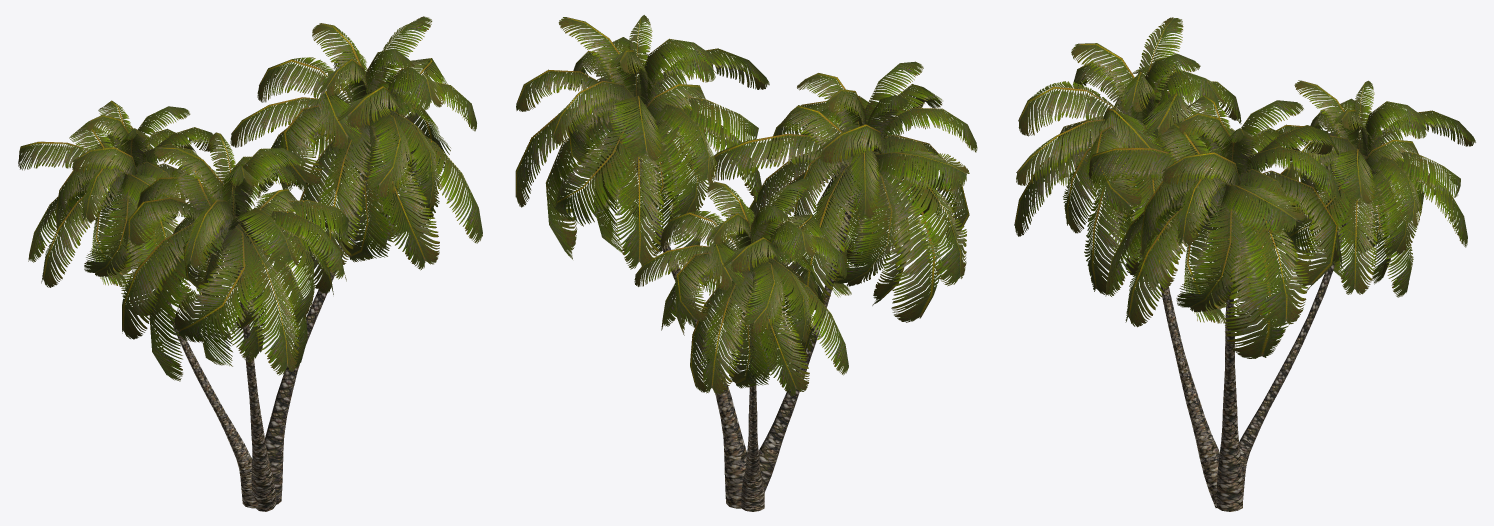
Rendered from tree_palm_tropical_05.dae.
3 views of the same model, side by side, from view 1: azimuth 30°, elevation 25°; view 2: azimuth 150°, elevation 25°; view 3: azimuth 270°, elevation 25° (orthographic). The views are drawn at different scales.
Visible parts, largest first — view 1: palm_trio; view 2: palm_trio; view 3: palm_trio.
Boxes of the visible parts, x1,y1,x2,y2 form: palm_trio: (18, 16, 482, 511); palm_trio: (515, 15, 977, 511); palm_trio: (1014, 17, 1475, 511).
Bounding box in the file's own units: 22.39 × 23.1 × 24.92.
